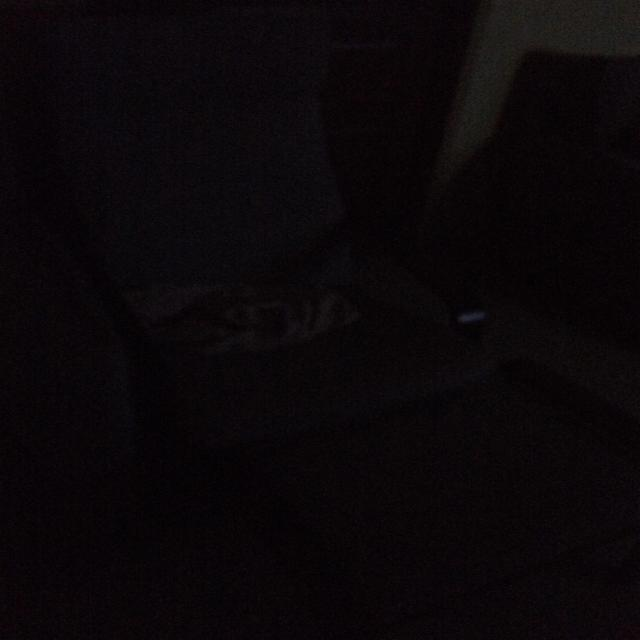chair: (71, 22, 478, 486)
